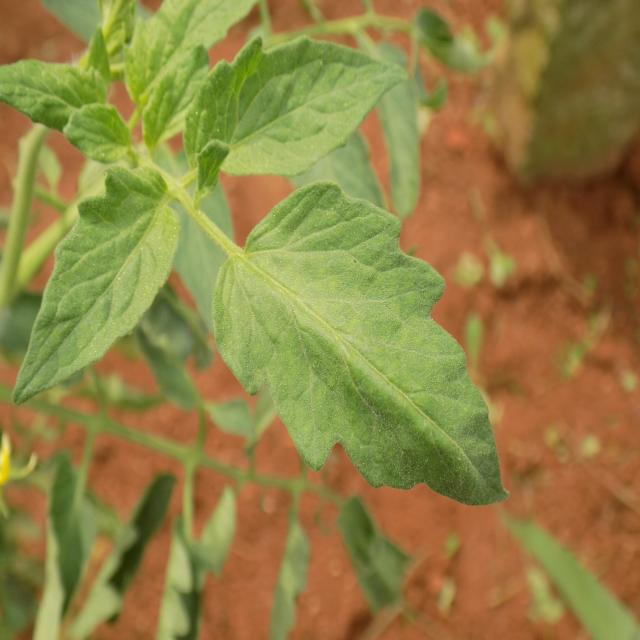tomato_healthy: (216, 181, 502, 500), (10, 165, 181, 410), (178, 34, 401, 174)
